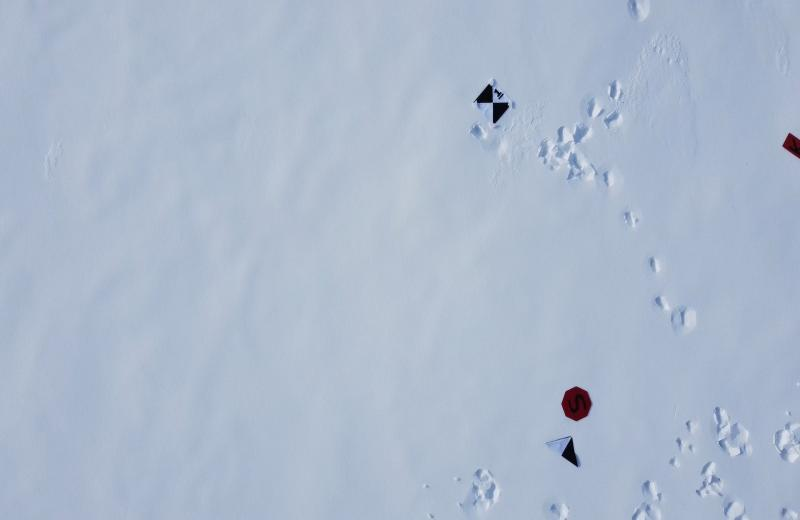Octagon: (560, 382, 594, 424)
Rectangle: (778, 130, 800, 163)
